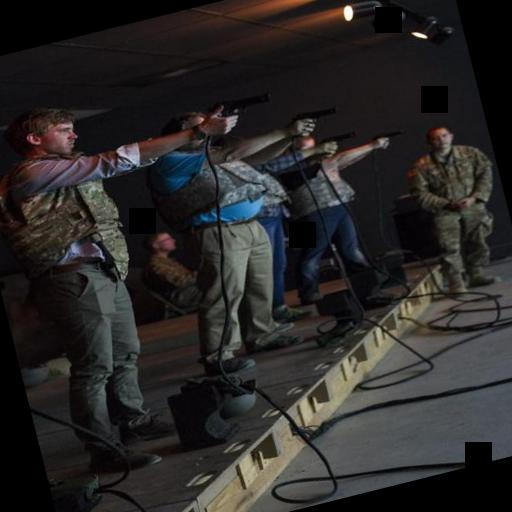Handgun: (202, 88, 274, 130), (285, 99, 341, 134), (313, 127, 356, 151), (366, 124, 402, 150)
